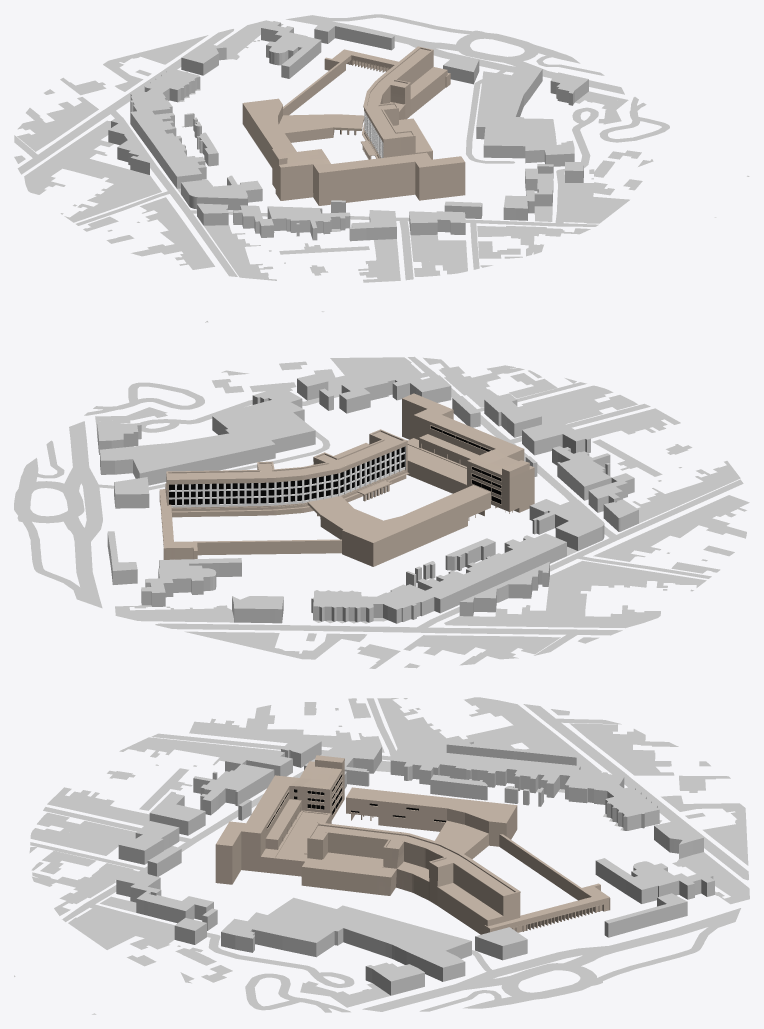
File: libourne_lycee_max_linder.glb
3 views of the same model, one above another, from view 1: azimuth 30°, elevation 25°; view 2: azimuth 150°, elevation 25°; view 3: azimuth 270°, elevation 25° (orthographic). The views are drawn at different scales.
Visible parts, largest first — view 1: city, lycee_max_linder, routes; view 2: city, lycee_max_linder, routes; view 3: city, lycee_max_linder, routes.
Part boxes in pixels (left/top/right/bottom): city: left=14, top=20, right=749, bottom=282; lycee_max_linder: left=242, top=46, right=465, bottom=205; routes: left=14, top=14, right=669, bottom=280; city: left=95, top=311, right=749, bottom=668; lycee_max_linder: left=159, top=393, right=534, bottom=566; routes: left=14, top=356, right=743, bottom=655; city: left=14, top=697, right=749, bottom=1014; lycee_max_linder: left=215, top=755, right=610, bottom=934; routes: left=30, top=698, right=748, bottom=1012.
Bounding box in the file's own units: 1.17 × 0.0791 × 1.15.
